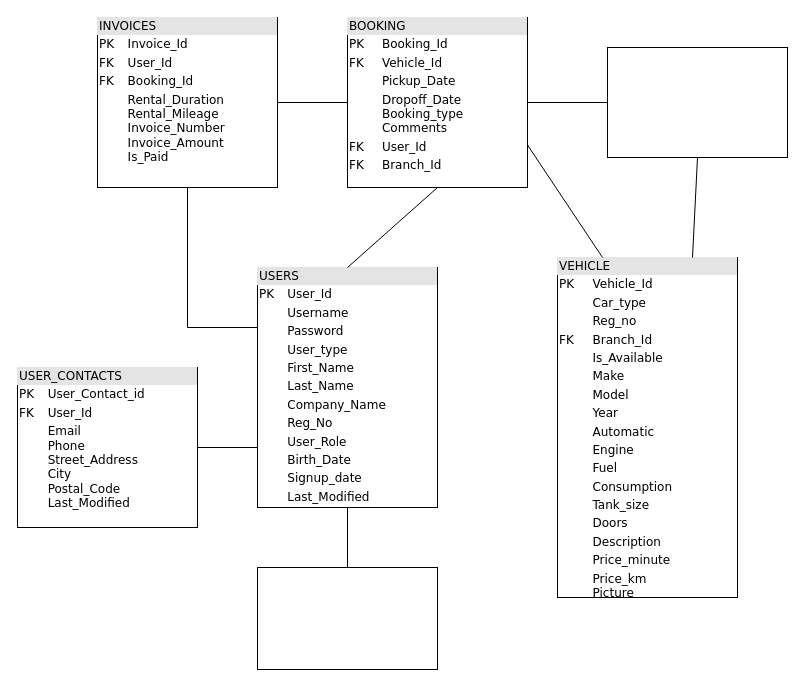
The diagram is 805 pixels wide and 687 high, and some of its shapes have lost their labels. The shapes that lost their labels are listed below. From the top down, each one's centre as x and y in pixels, then its label:
pixel 697 102: BRANCH PK Branch_Id Branch_Name Street_Address City Postal_Code
pixel 347 618: EMPLOYEES PK Employee_Id FK User_Id Job_Title Salary
